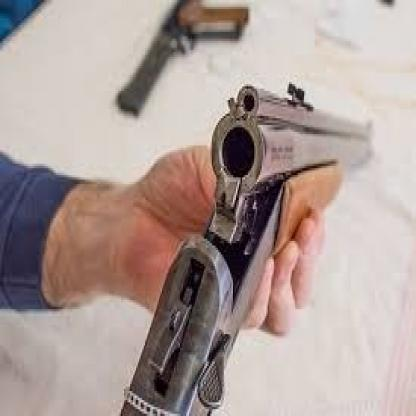Gun: (117, 80, 372, 414)
